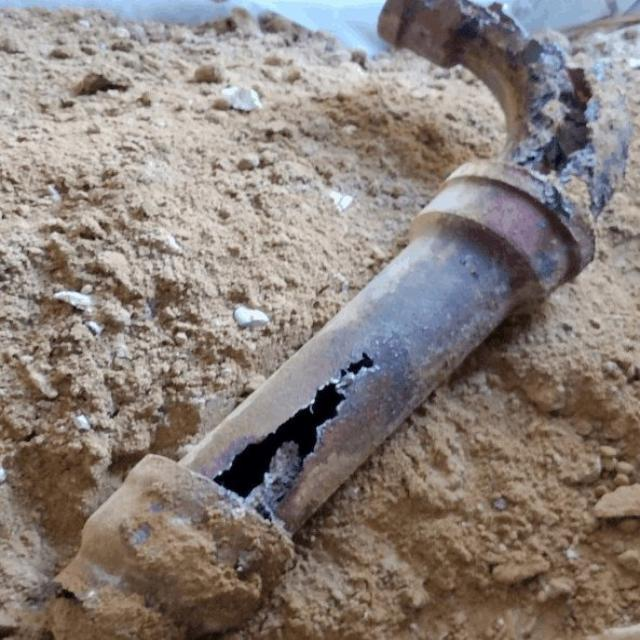crack: (219, 355, 380, 504)
